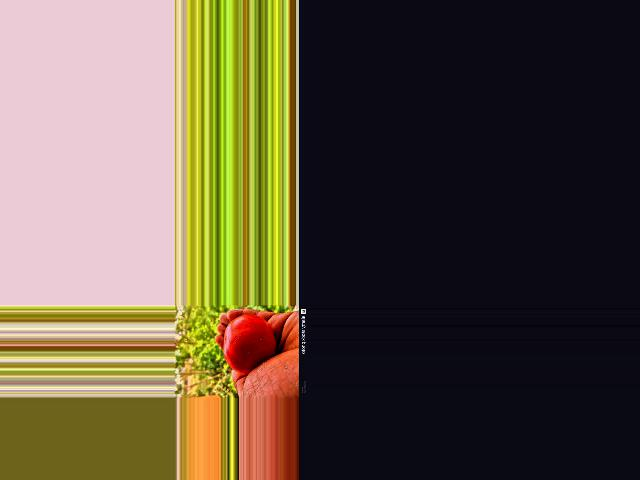tomato: (224, 315, 275, 373)
